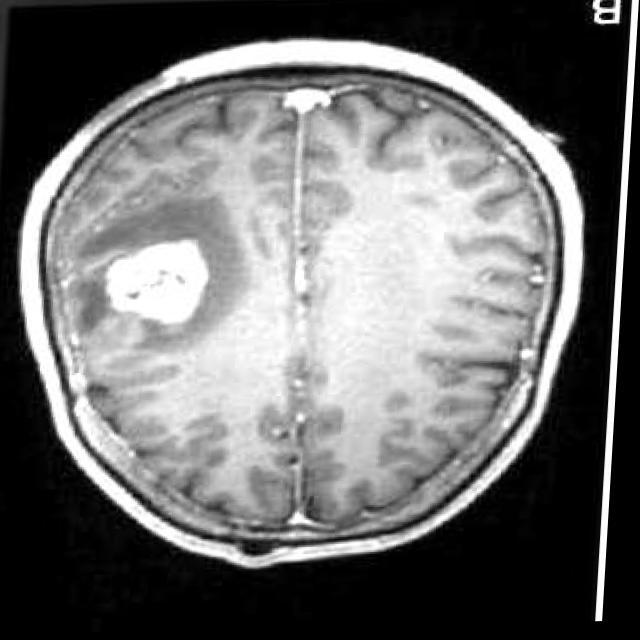Tumor: (110, 239, 214, 324)
